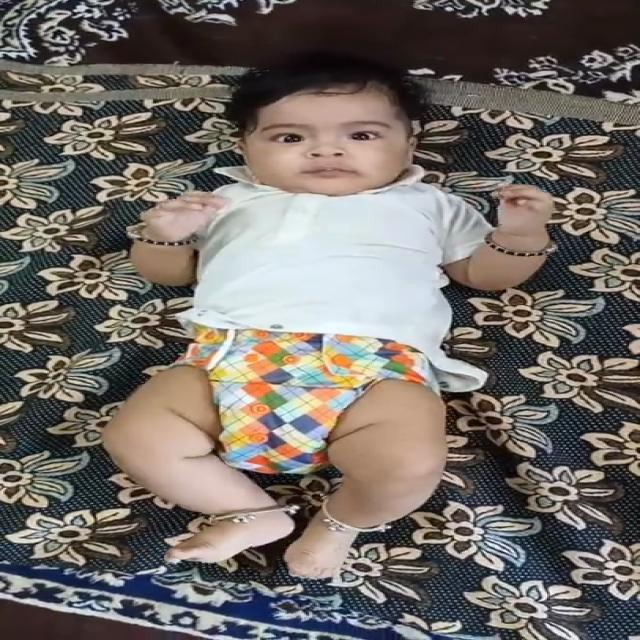baby: (80, 54, 566, 594)
